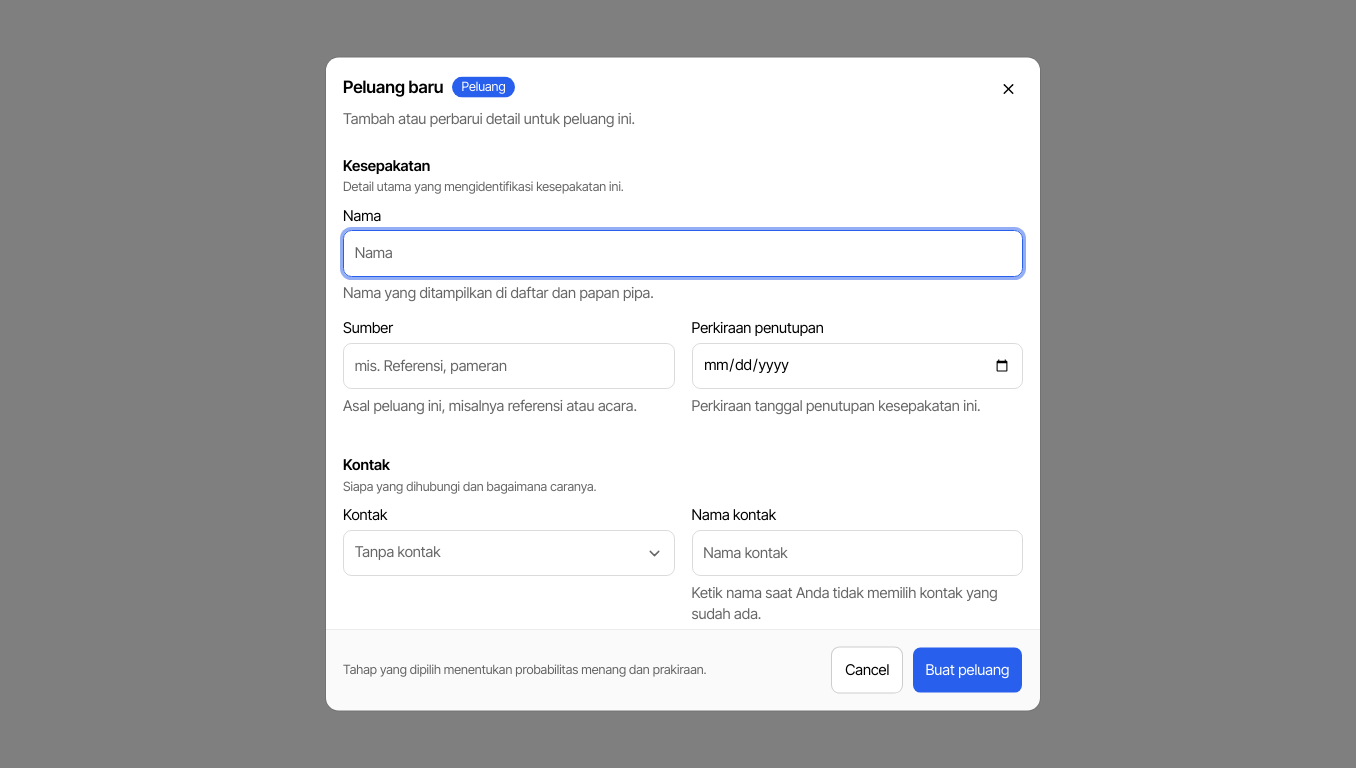
Test: LeadFormDialog extra › requires a stage for opportunities
The width and height of the screenshot is (1366, 768).
In the field with placeholder "Nama": (683, 253) [343,230,1023,276], type "Big deal"
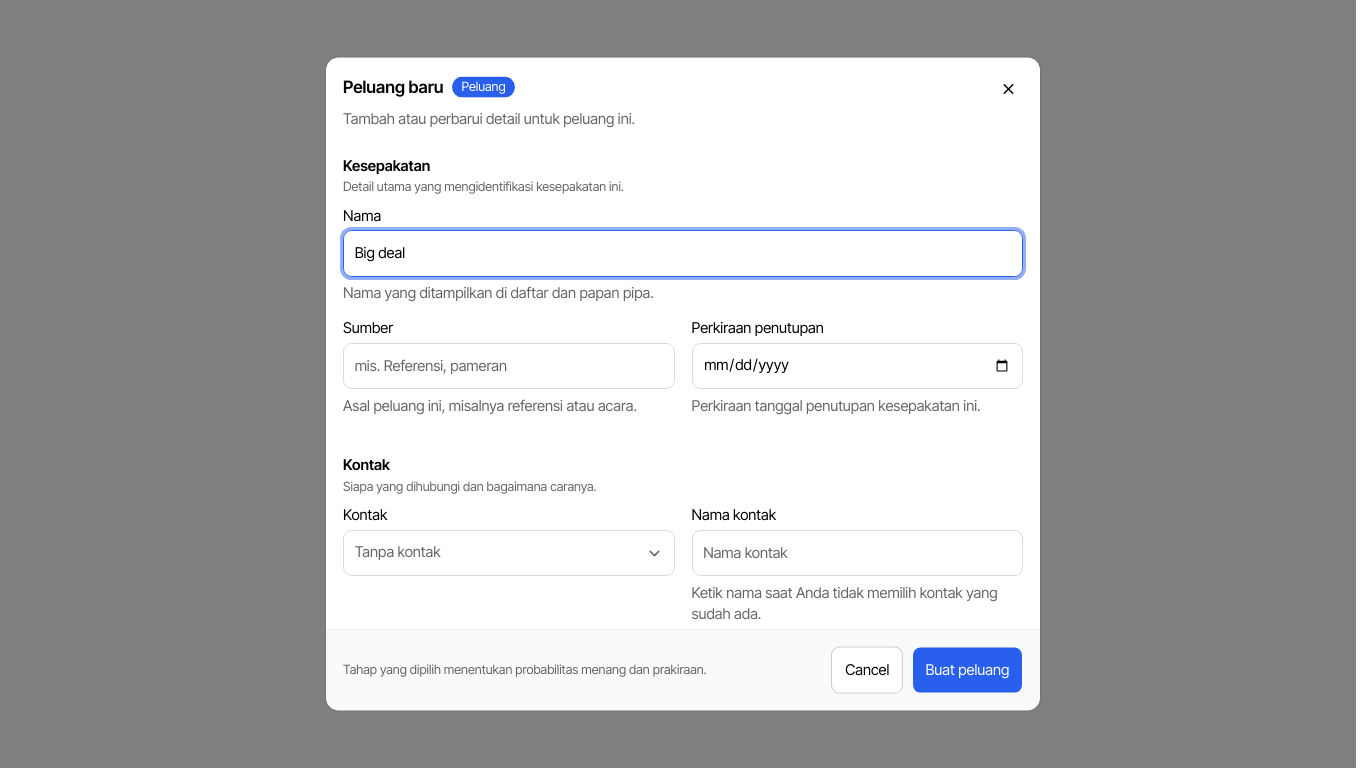
Click the button "Buat peluang": (967, 670) [912,647,1023,693]
(page scrolled)
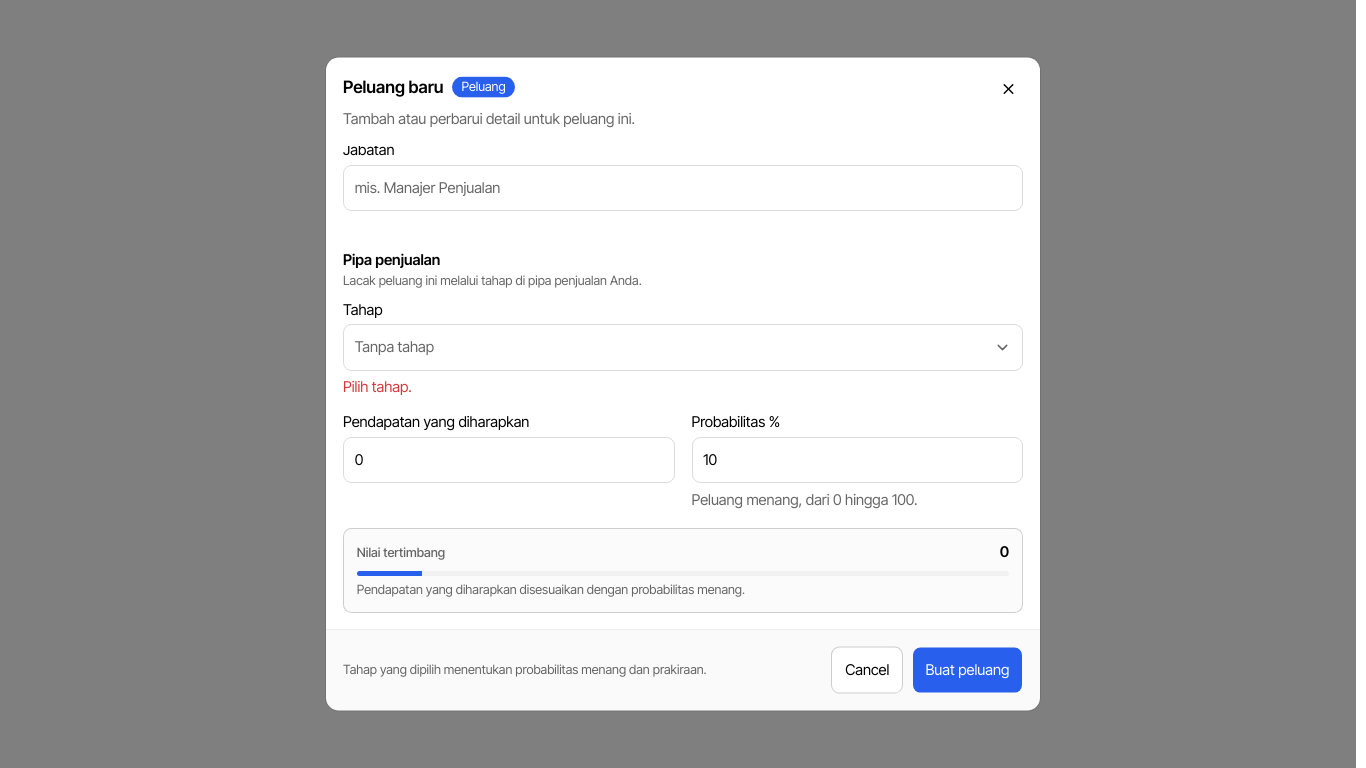
Result: the text "Pilih tahap." is shown at [343,378,412,396]
